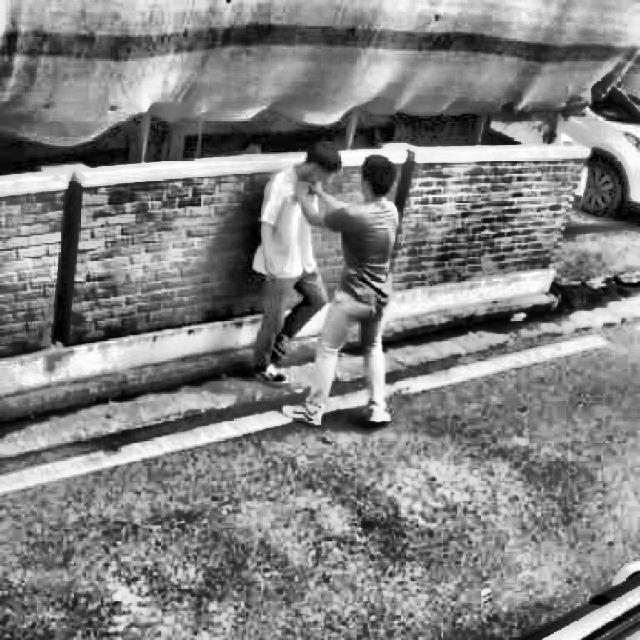robbery: (228, 133, 405, 451)
